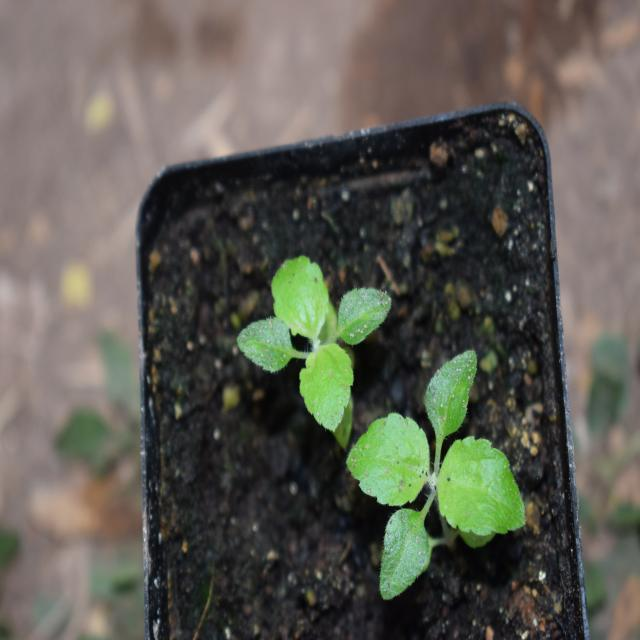billygoat_weed: (363, 366, 522, 583), (246, 252, 395, 441)
